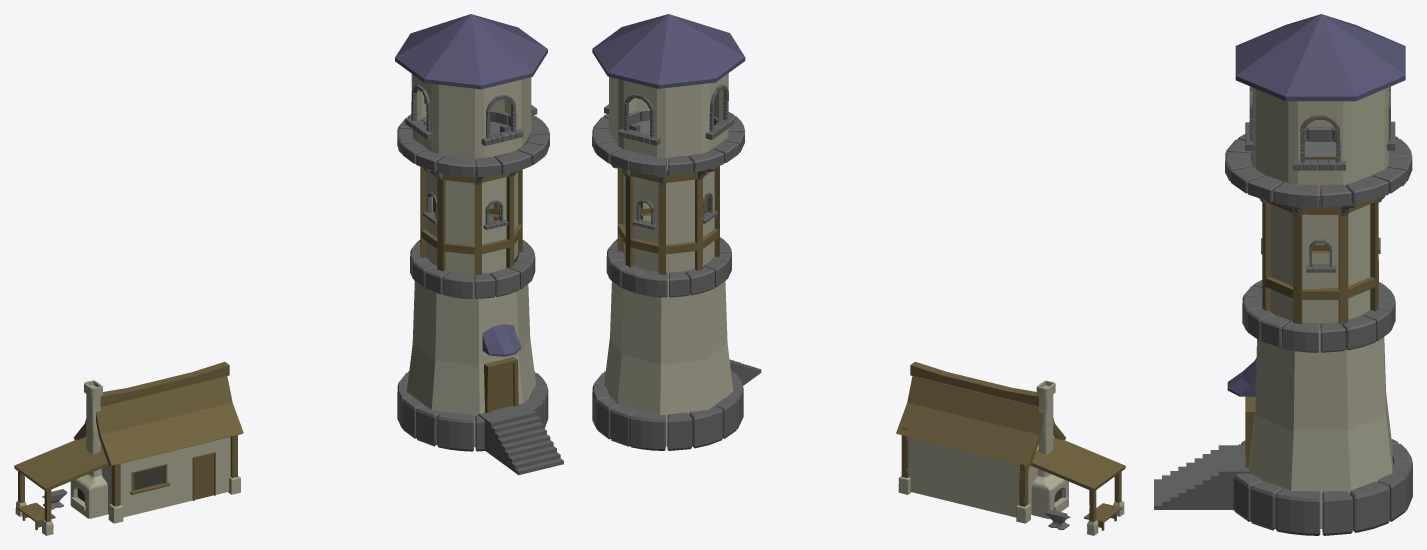
File: POITower.fbx
3 views of the same model, side by side, from view 1: azimuth 30°, elevation 25°; view 2: azimuth 150°, elevation 25°; view 3: azimuth 270°, elevation 25° (orthographic). The views are drawn at different scales.
Parts seen in each view (by area): view 1: Plane.005, Cylinder, Cylinder.001, Cylinder.005, Cylinder.004, Cylinder.002, Cube.003, Cube.001, Plane, Cube.002, Cylinder.006, Cylinder.007 (+2 smaller); view 2: Plane.005, Cylinder, Cylinder.001, Cylinder.005, Cube.003, Cylinder.004, Cylinder.002, Cube.001, Cube.002, Cube.006, Cube.008; view 3: Cylinder, Cylinder.001, Cylinder.005, Cube.003, Cylinder.004, Cylinder.002, Cube.001, Cube.002, Plane, Cube.012, Cylinder.007, Cylinder.006 (+4 smaller).
Boxes of the visible parts, x1,y1,x2,y2 form: Plane.005: (14,361,243,535); Cylinder: (407,273,535,446); Cylinder.001: (395,14,547,89); Cylinder.005: (411,74,531,159); Cylinder.004: (426,153,517,275); Cylinder.002: (420,154,522,274); Cube.003: (397,371,548,451); Cube.001: (397,110,549,176); Plane: (478,403,563,475); Cube.002: (410,240,535,298); Cylinder.006: (484,357,518,413); Cylinder.007: (482,324,520,356); Plane.005: (896,361,1125,535); Cylinder: (604,254,733,446); Cylinder.001: (592,14,745,88); Cylinder.005: (609,73,728,158); Cube.003: (592,370,743,450); Cylinder.004: (623,159,714,272); Cylinder.002: (617,165,719,274); Cube.001: (592,111,744,175); Cube.002: (606,237,731,297); Cube.006: (618,94,660,145); Cube.008: (705,84,734,139); Cylinder: (1249,315,1392,528); Cylinder.001: (1235,14,1405,101); Cylinder.005: (1252,87,1388,185); Cube.003: (1233,439,1412,535); Cylinder.004: (1270,186,1370,324); Cylinder.002: (1262,157,1378,325); Cube.001: (1225,127,1412,207); Cube.002: (1242,280,1395,352); Plane: (1154,445,1250,509); Cube.012: (1293,115,1345,170); Cylinder.007: (1227,358,1256,396); Cylinder.006: (1245,396,1254,467).
Size of the model in its own units: 2257 by 1712 by 830.
